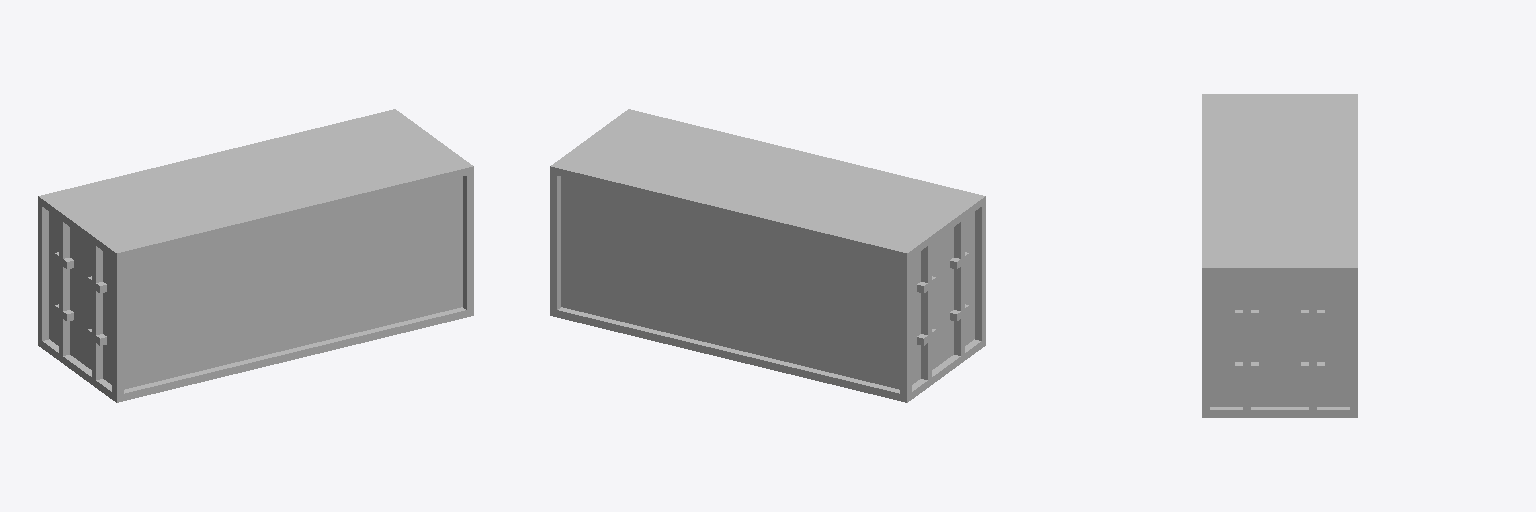
The model's file is æargo container-3.obj.
3 views of the same model, side by side, from view 1: azimuth 30°, elevation 25°; view 2: azimuth 150°, elevation 25°; view 3: azimuth 270°, elevation 25° (orthographic).
Visible parts, largest first — view 1: object 1; view 2: object 1; view 3: object 1.
Boxes of the visible parts, x1=… form: object 1: x1=38, y1=109, x2=473, y2=402; object 1: x1=550, y1=109, x2=985, y2=402; object 1: x1=1202, y1=94, x2=1357, y2=417.
Bounding box in the file's own units: 5 × 2 × 1.9.